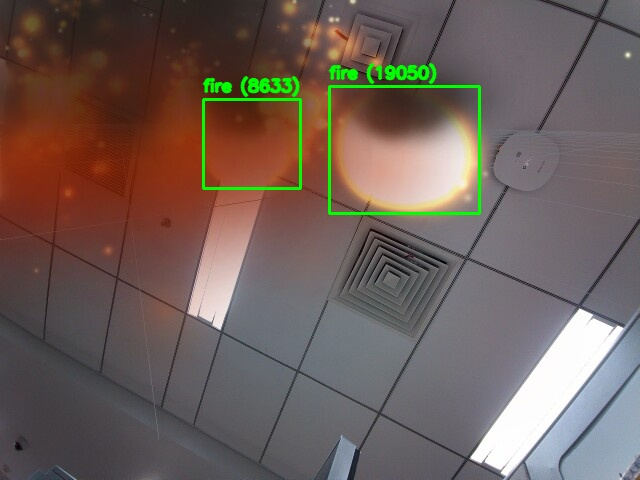fire: (329, 86, 479, 213), (203, 99, 300, 188)
